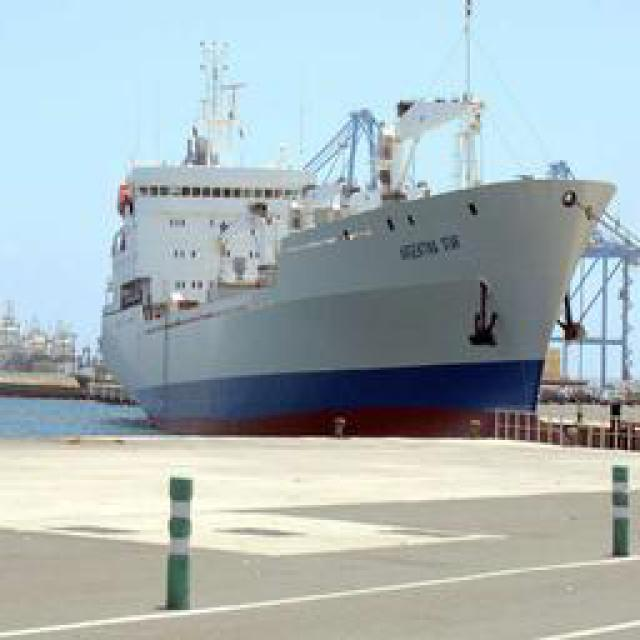Ship: (100, 38, 605, 436)
